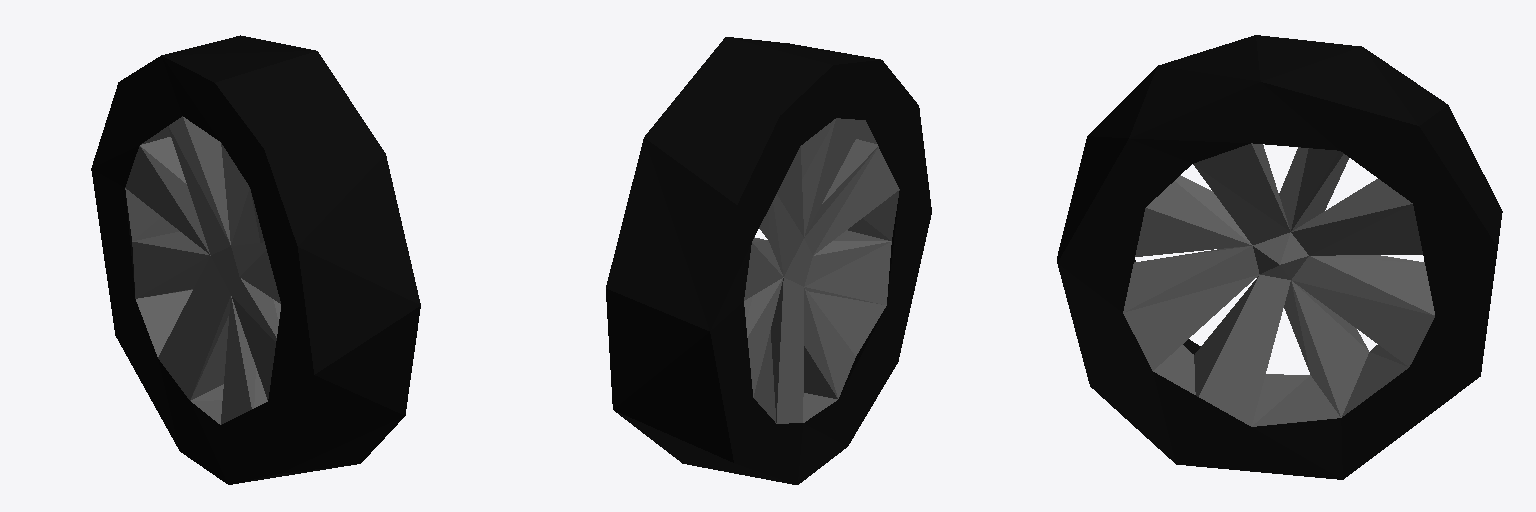
The model's file is bug_car_front_wheel.obj.
The picture shows the model from 3 angles: view 1: azimuth 30°, elevation 25°; view 2: azimuth 150°, elevation 25°; view 3: azimuth 270°, elevation 25°; orthographic projection.
Visible parts, largest first — view 1: Cylinder.004; view 2: Cylinder.004; view 3: Cylinder.004.
Part boxes in pixels (x1,y1,x2,y2): Cylinder.004: (91, 35, 420, 484); Cylinder.004: (606, 37, 931, 484); Cylinder.004: (1057, 35, 1502, 479).
Size of the model in its own units: 0.279 by 0.9719 by 0.9828.